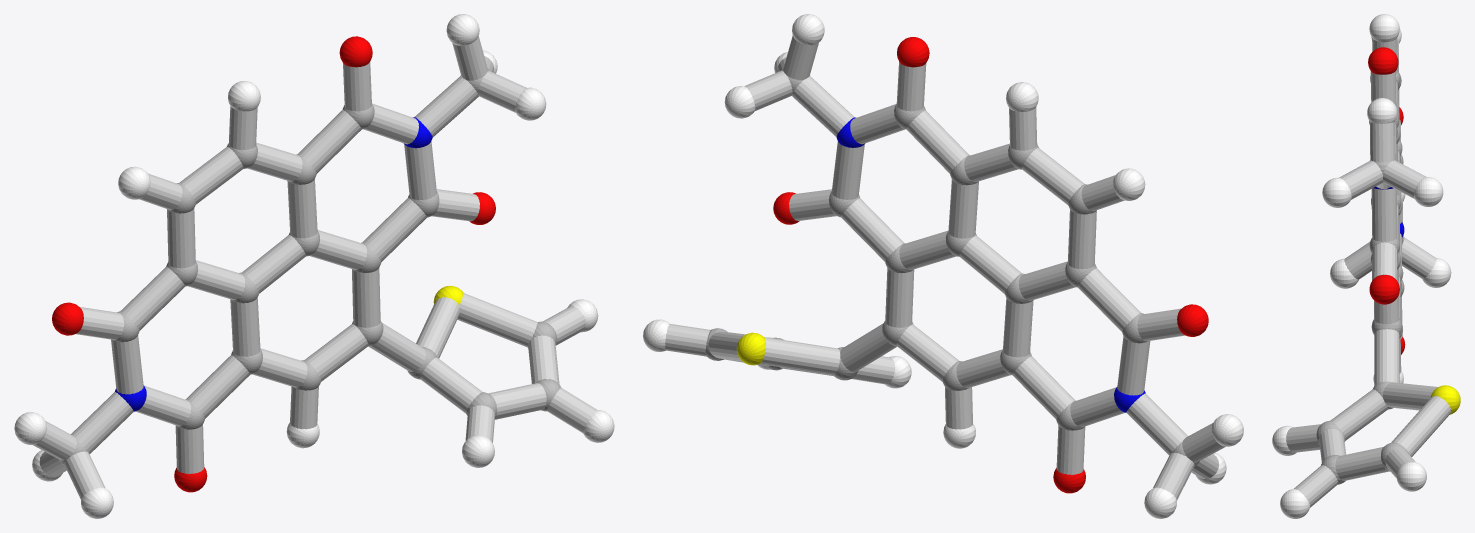
Rendered from Dimethyl_Naphthalene_Dicarboximide_Phi_30_Theta_120_Thiophene.glb.
The picture shows the model from 3 angles, left to right: view 1: azimuth 30°, elevation 25°; view 2: azimuth 150°, elevation 25°; view 3: azimuth 270°, elevation 25°; orthographic projection. The views are drawn at different scales.
Visible parts, largest first — view 1: grp14119, grp7241, grp1, grp12309, grp11585; view 2: grp14119, grp7241, grp1, grp12309, grp13757, grp11585; view 3: grp14119, grp7241, grp1, grp12309, grp13757.
Part boxes in pixels (bbox=[...]): grp14119: bbox=[33, 36, 596, 499]; grp7241: bbox=[14, 14, 614, 518]; grp1: bbox=[59, 68, 561, 464]; grp12309: bbox=[52, 36, 495, 492]; grp11585: bbox=[115, 117, 432, 411]; grp14119: bbox=[665, 35, 1225, 499]; grp7241: bbox=[643, 14, 1243, 518]; grp1: bbox=[705, 68, 1199, 466]; grp12309: bbox=[773, 37, 1208, 493]; grp13757: bbox=[736, 332, 765, 365]; grp11585: bbox=[836, 117, 1145, 412]; grp14119: bbox=[1286, 38, 1451, 507]; grp7241: bbox=[1272, 14, 1451, 518]; grp1: bbox=[1316, 71, 1409, 484]; grp12309: bbox=[1368, 47, 1405, 354]; grp13757: bbox=[1430, 385, 1460, 414].
Bounding box in the file's own units: 12.36 × 8.32 × 3.72.
